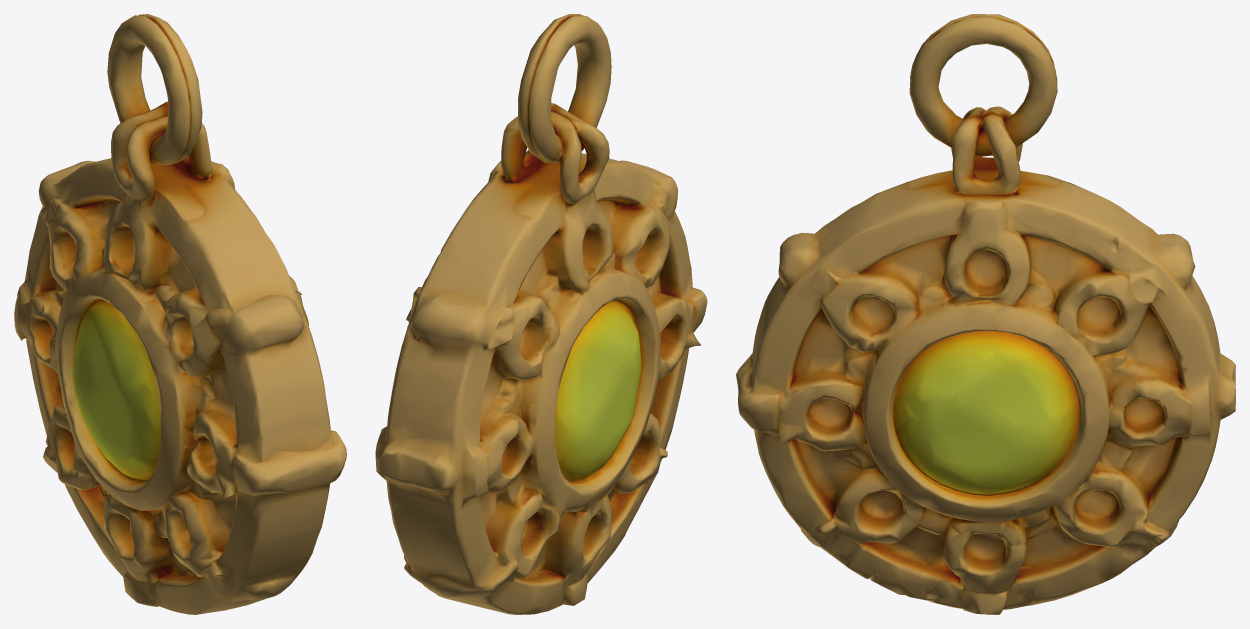
The model's file is goldenes+amulett+3d-modell.glb.
The picture shows the model from 3 angles, left to right: view 1: azimuth 30°, elevation 25°; view 2: azimuth 150°, elevation 25°; view 3: azimuth 270°, elevation 25°; orthographic projection.
Parts seen in each view (by area): view 1: tripo_node_e9c92ca2-5d75-4803-b57b-b2474ec9f484; view 2: tripo_node_e9c92ca2-5d75-4803-b57b-b2474ec9f484; view 3: tripo_node_e9c92ca2-5d75-4803-b57b-b2474ec9f484.
Part boxes in pixels (x1,y1,x2,y2): tripo_node_e9c92ca2-5d75-4803-b57b-b2474ec9f484: (14,14,346,614); tripo_node_e9c92ca2-5d75-4803-b57b-b2474ec9f484: (375,14,707,614); tripo_node_e9c92ca2-5d75-4803-b57b-b2474ec9f484: (736,14,1235,614).
Bounding box in the file's own units: 0.2736 × 0.98 × 0.7631.
1 material, 1 textured.
